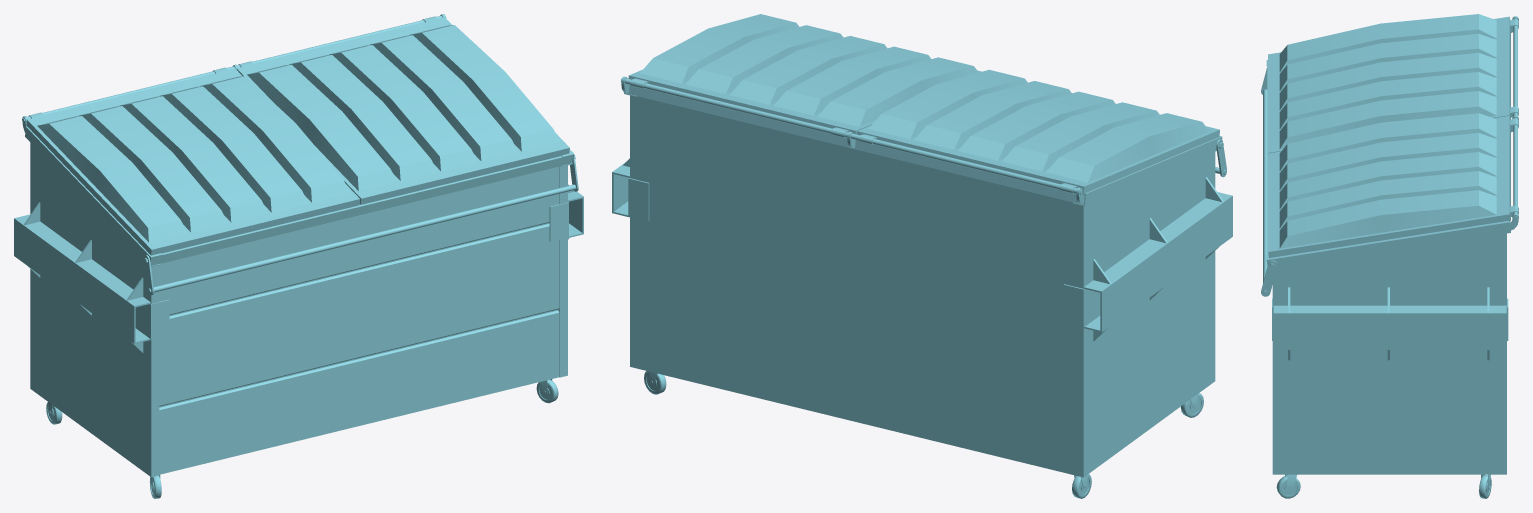
Rendered from Dumpster.dae.
The picture shows the model from 3 angles, left to right: view 1: azimuth 30°, elevation 25°; view 2: azimuth 150°, elevation 25°; view 3: azimuth 270°, elevation 25°; orthographic projection. The views are drawn at different scales.
Visible parts, largest first — view 1: Dumpster, Dumpster_Lid, Dumpster_Lid_2; view 2: Dumpster, Dumpster_Lid, Dumpster_Lid_2; view 3: Dumpster, Dumpster_Lid_2, Dumpster_Lid.
Boxes of the visible parts, x1,y1,x2,y2 form: Dumpster: [14, 14, 583, 498]; Dumpster_Lid: [26, 67, 360, 255]; Dumpster_Lid_2: [236, 16, 569, 204]; Dumpster: [612, 76, 1232, 498]; Dumpster_Lid: [857, 69, 1219, 194]; Dumpster_Lid_2: [628, 14, 981, 137]; Dumpster: [1261, 16, 1518, 498]; Dumpster_Lid_2: [1268, 113, 1518, 257]; Dumpster_Lid: [1268, 14, 1518, 153].
Bounding box in the file's own units: 1.93 × 0.9887 × 1.25.
